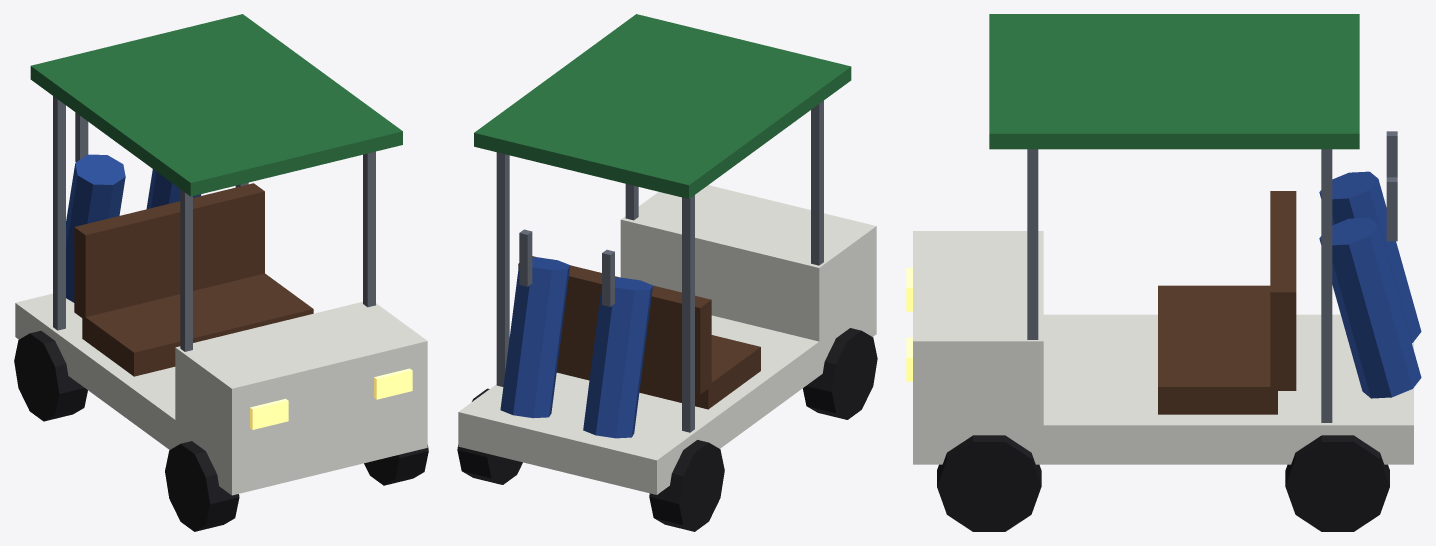
The model's file is golf_cart.glb.
3 renders of one model, left to right at view 1: azimuth 30°, elevation 25°; view 2: azimuth 150°, elevation 25°; view 3: azimuth 270°, elevation 25°, orthographic. The views are drawn at different scales.
Parts seen in each view (by area): view 1: body_cart_white, body_cart_roof, body_cart_seat, wheels_tire, body_car_grey, body_golf_bag, lights_lamp; view 2: body_cart_white, body_cart_roof, body_golf_bag, body_cart_seat, wheels_tire, body_car_grey; view 3: body_cart_white, body_cart_roof, body_cart_seat, wheels_tire, body_golf_bag, body_car_grey, lights_lamp.
Boxes of the visible parts, bbox=[...] form: body_cart_white: bbox=[15, 293, 427, 495]; body_cart_roof: bbox=[30, 14, 402, 196]; body_cart_seat: bbox=[74, 183, 313, 376]; wheels_tire: bbox=[14, 330, 428, 531]; body_car_grey: bbox=[53, 96, 375, 351]; body_golf_bag: bbox=[66, 154, 201, 302]; lights_lamp: bbox=[250, 368, 412, 429]; body_cart_white: bbox=[458, 185, 876, 494]; body_cart_roof: bbox=[474, 14, 851, 198]; body_golf_bag: bbox=[500, 257, 652, 438]; body_cart_seat: bbox=[518, 256, 760, 409]; wheels_tire: bbox=[457, 328, 877, 531]; body_car_grey: bbox=[496, 100, 823, 432]; body_cart_white: bbox=[913, 231, 1413, 464]; body_cart_roof: bbox=[989, 14, 1359, 149]; body_cart_seat: bbox=[1158, 191, 1296, 414]; wheels_tire: bbox=[937, 435, 1389, 531]; body_golf_bag: bbox=[1319, 171, 1421, 398]; body_car_grey: bbox=[1027, 131, 1397, 422]; lights_lamp: bbox=[906, 267, 912, 381].
Bounding box in the file's own units: 1.34 × 2.01 × 2.36.
